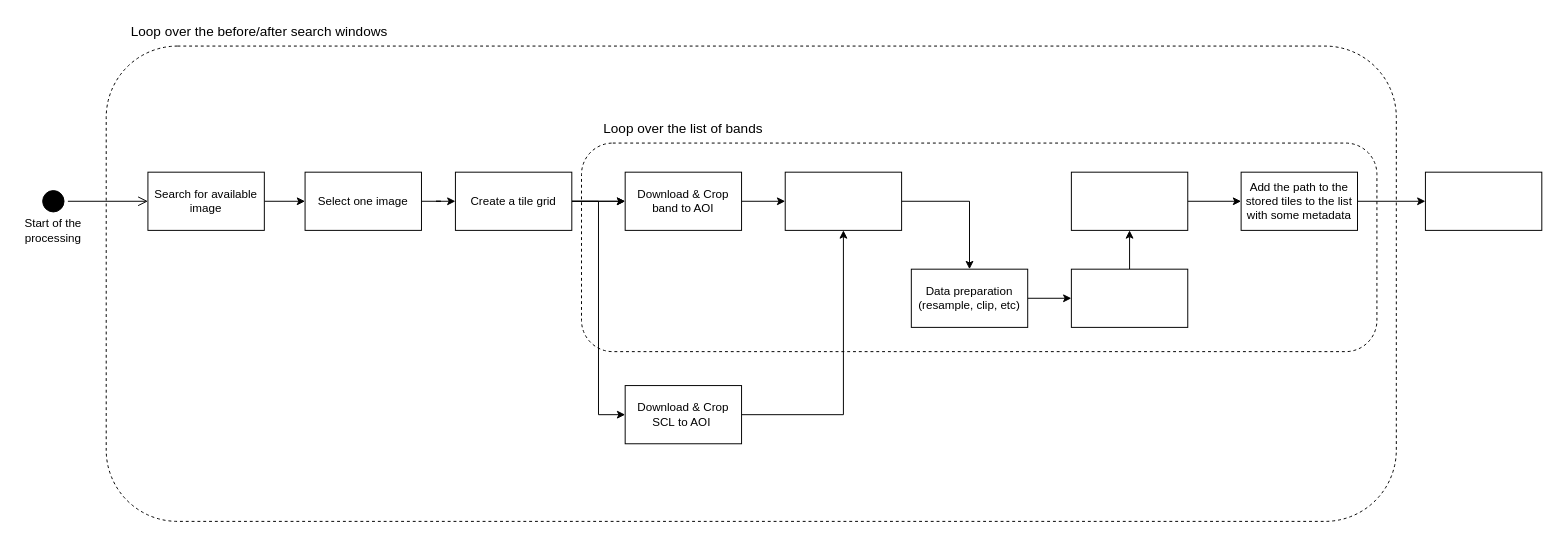
This 1559x538 diagram has some shape labels left out. Here are the shapes that lost their labels. From the top down, the box of each, then its label:
(784, 171, 902, 230): Masking of cloudy pixels, saturated, etc
(1070, 171, 1188, 230): Store the proceed tiles
(1424, 171, 1542, 230): Return the list of paired GeoTIFF + metadata manifest
(1070, 268, 1188, 327): Split the image to fit the tile grid
